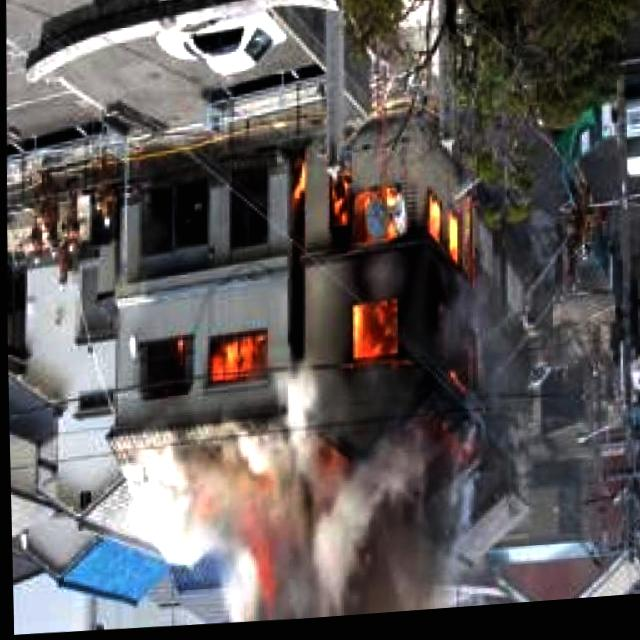Fire: (306, 138, 484, 390), (197, 464, 286, 564), (181, 328, 262, 398)
Smoke: (96, 400, 474, 632)
